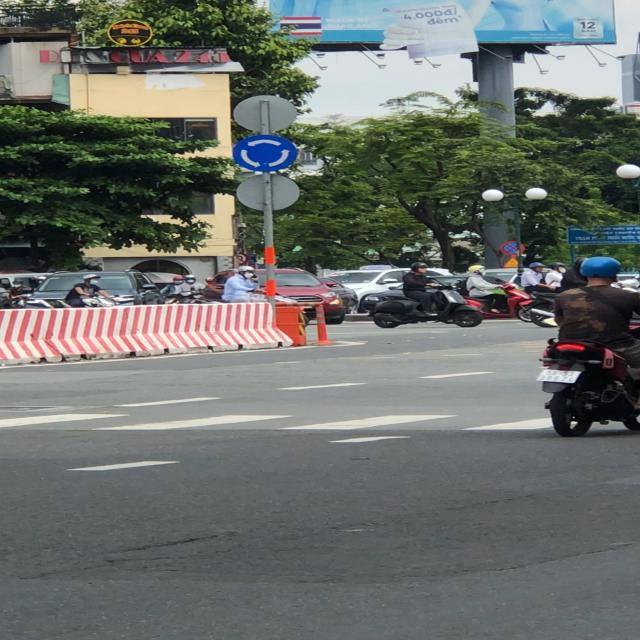Bien bao noi giao nhau chay theo vong xuyen: (222, 132, 298, 171)
